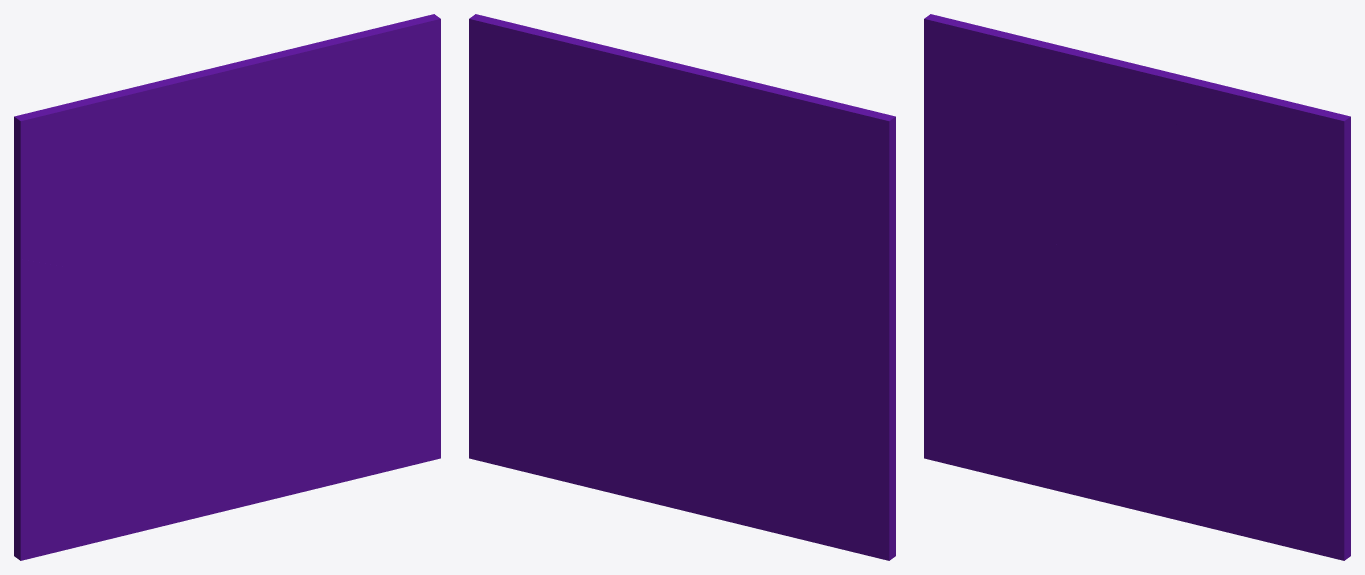
The model's file is MemorialFrame_3.009_chunks.fbx.
3 views of the same model, side by side, from view 1: azimuth 30°, elevation 25°; view 2: azimuth 150°, elevation 25°; view 3: azimuth 330°, elevation 25° (orthographic).
Parts seen in each view (by area): view 1: MemorialFrame_3.009_1, MemorialFrame_3.009_2, MemorialFrame_3.009_0, MemorialFrame_3.009_5, MemorialFrame_3.009_9, MemorialFrame_3.009_3, MemorialFrame_3.009_6, MemorialFrame_3.009_4, MemorialFrame_3.009_8; view 2: MemorialFrame_3.009_1, MemorialFrame_3.009_0, MemorialFrame_3.009_2, MemorialFrame_3.009_5, MemorialFrame_3.009_3, MemorialFrame_3.009_9, MemorialFrame_3.009_6, MemorialFrame_3.009_8, MemorialFrame_3.009_7, MemorialFrame_3.009_4; view 3: MemorialFrame_3.009_1, MemorialFrame_3.009_2, MemorialFrame_3.009_0, MemorialFrame_3.009_5, MemorialFrame_3.009_9, MemorialFrame_3.009_3, MemorialFrame_3.009_6, MemorialFrame_3.009_4, MemorialFrame_3.009_8.
Boxes of the visible parts, x1,y1,x2,y2 form: MemorialFrame_3.009_1: (190,228,440,519); MemorialFrame_3.009_2: (14,57,280,294); MemorialFrame_3.009_0: (241,14,440,281); MemorialFrame_3.009_5: (14,242,226,377); MemorialFrame_3.009_9: (14,276,136,431); MemorialFrame_3.009_3: (78,405,199,546); MemorialFrame_3.009_6: (14,398,79,560); MemorialFrame_3.009_4: (135,323,221,460); MemorialFrame_3.009_8: (54,401,135,552); MemorialFrame_3.009_1: (469,239,712,517); MemorialFrame_3.009_0: (469,14,686,294); MemorialFrame_3.009_2: (636,53,895,282); MemorialFrame_3.009_5: (676,247,895,381); MemorialFrame_3.009_3: (698,377,842,549); MemorialFrame_3.009_9: (775,271,895,428); MemorialFrame_3.009_6: (843,393,895,560); MemorialFrame_3.009_8: (785,405,861,554); MemorialFrame_3.009_7: (827,387,894,465); MemorialFrame_3.009_4: (682,330,754,426); MemorialFrame_3.009_1: (1093,286,1350,560); MemorialFrame_3.009_2: (924,14,1184,292); MemorialFrame_3.009_0: (1144,73,1350,336); MemorialFrame_3.009_5: (924,156,1129,331); MemorialFrame_3.009_9: (924,174,1040,358); MemorialFrame_3.009_3: (981,358,1102,499); MemorialFrame_3.009_6: (924,296,983,466); MemorialFrame_3.009_4: (1038,318,1125,445); MemorialFrame_3.009_8: (958,355,1038,472).
Bounding box in the file's own units: 797 × 797 × 21.54.
